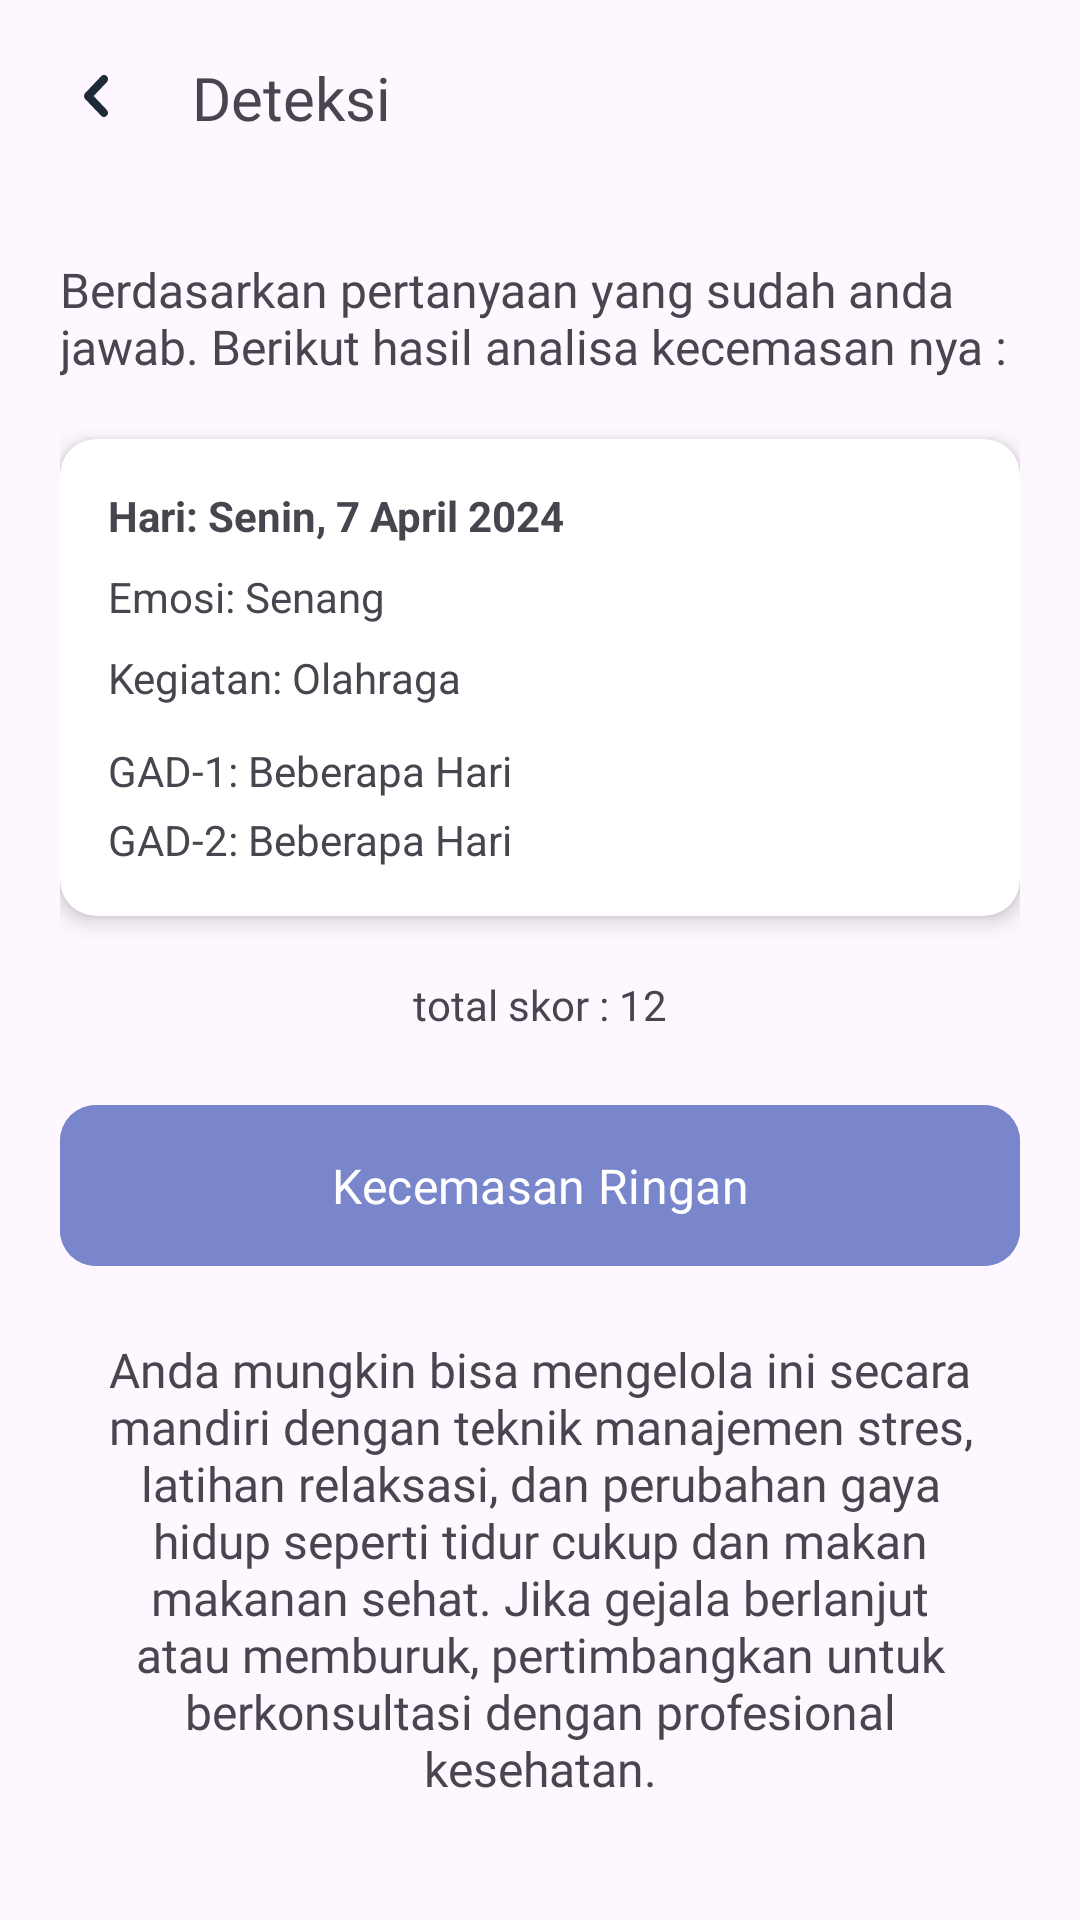

Where to tap for icons on this 1080px x 1920px app screen, as (x,y):
Back Button: (96,96)
